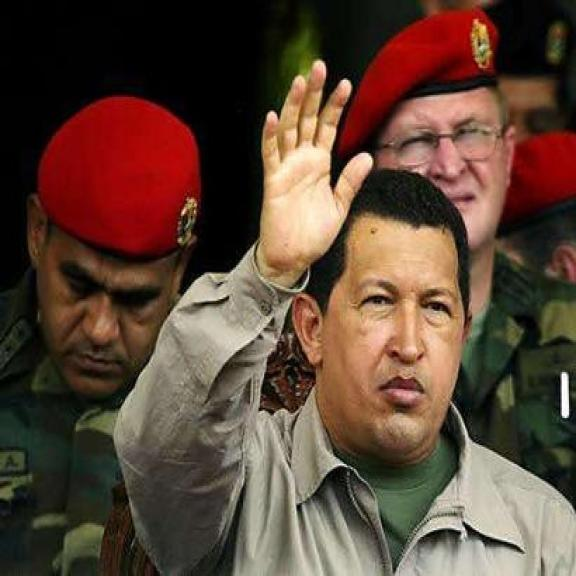face: (297, 202, 465, 461), (22, 195, 201, 404), (369, 84, 522, 259)
